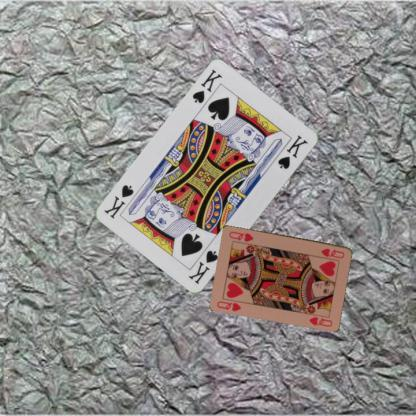Ks: (190, 67, 224, 105), (186, 248, 219, 286)
Qh: (214, 298, 243, 313), (318, 245, 346, 260)
